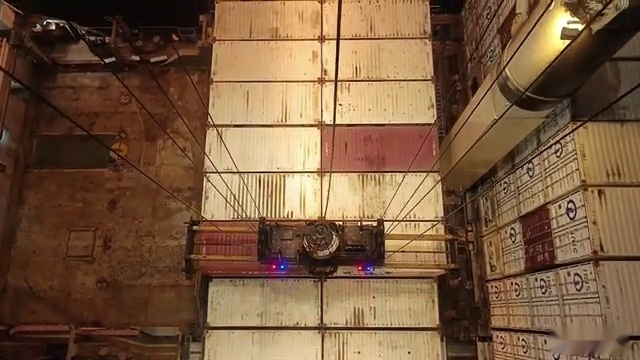container: (199, 222, 444, 281), (204, 278, 439, 328), (207, 77, 436, 126), (203, 126, 439, 173), (200, 173, 443, 216), (211, 39, 435, 80), (206, 330, 445, 360)
guide_mark: (76, 341, 551, 360), (106, 341, 531, 358)
spreader: (179, 211, 467, 279)
target_slot: (193, 219, 450, 280)
